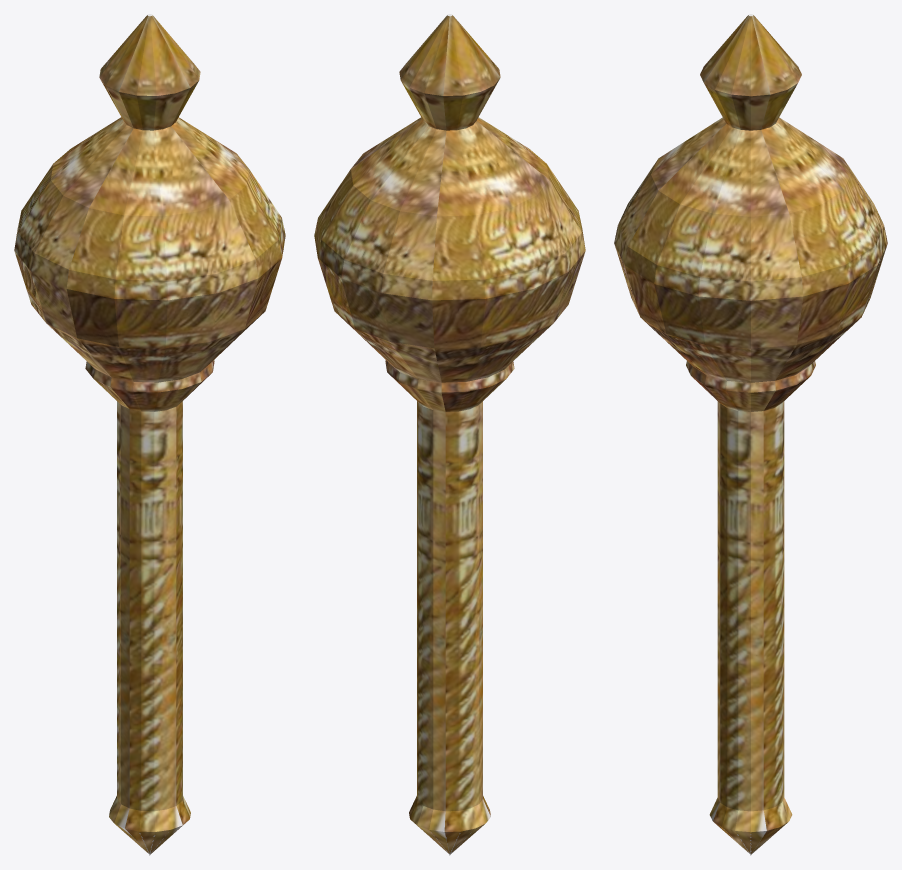
The model's file is GadhNew.fbx.
3 views of the same model, side by side, from view 1: azimuth 30°, elevation 25°; view 2: azimuth 150°, elevation 25°; view 3: azimuth 270°, elevation 25° (orthographic).
Parts seen in each view (by area): view 1: Cylinder; view 2: Cylinder; view 3: Cylinder.
Part boxes in pixels (bbox=[...]): Cylinder: bbox=[14, 14, 285, 855]; Cylinder: bbox=[314, 14, 585, 855]; Cylinder: bbox=[614, 14, 887, 855].
Bounding box in the file's own units: 107 × 362 × 107.
